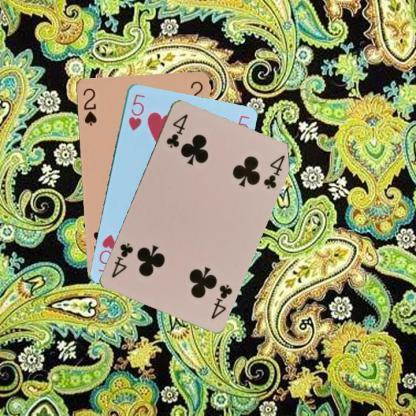2s: (80, 84, 98, 126)
4c: (208, 280, 233, 321), (163, 111, 189, 149)
5h: (126, 90, 146, 132)
